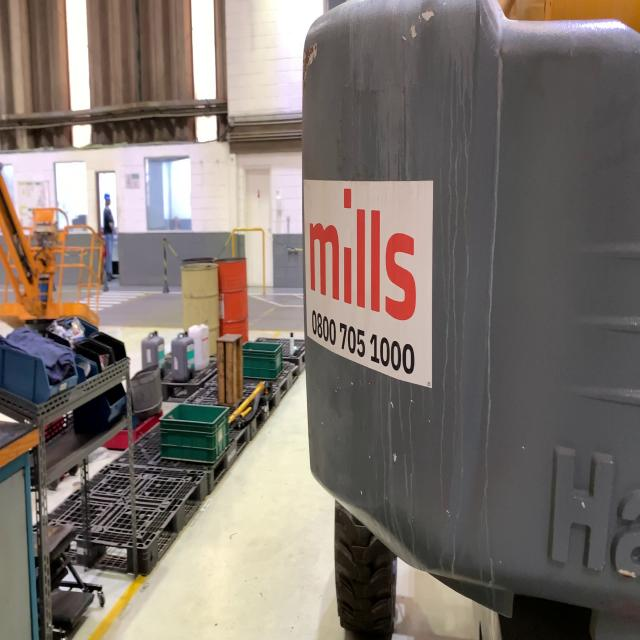Adesivos: (301, 173, 437, 389)
